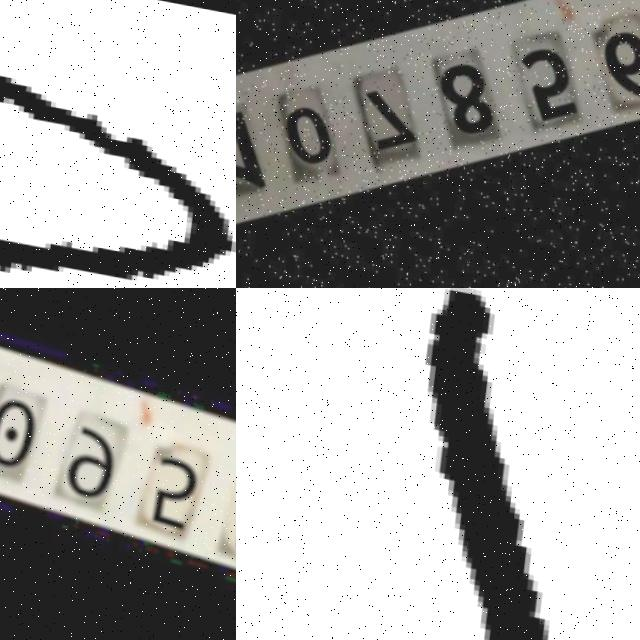0: (256, 79, 352, 196), (0, 376, 46, 483)
1: (236, 95, 278, 216)
5: (491, 18, 596, 142), (129, 435, 206, 538), (212, 459, 236, 562)
6: (569, 0, 640, 124)
7: (334, 58, 432, 177)
8: (409, 33, 515, 160)
9: (49, 408, 126, 511)
B: (0, 60, 230, 272)
I: (425, 288, 555, 640)
